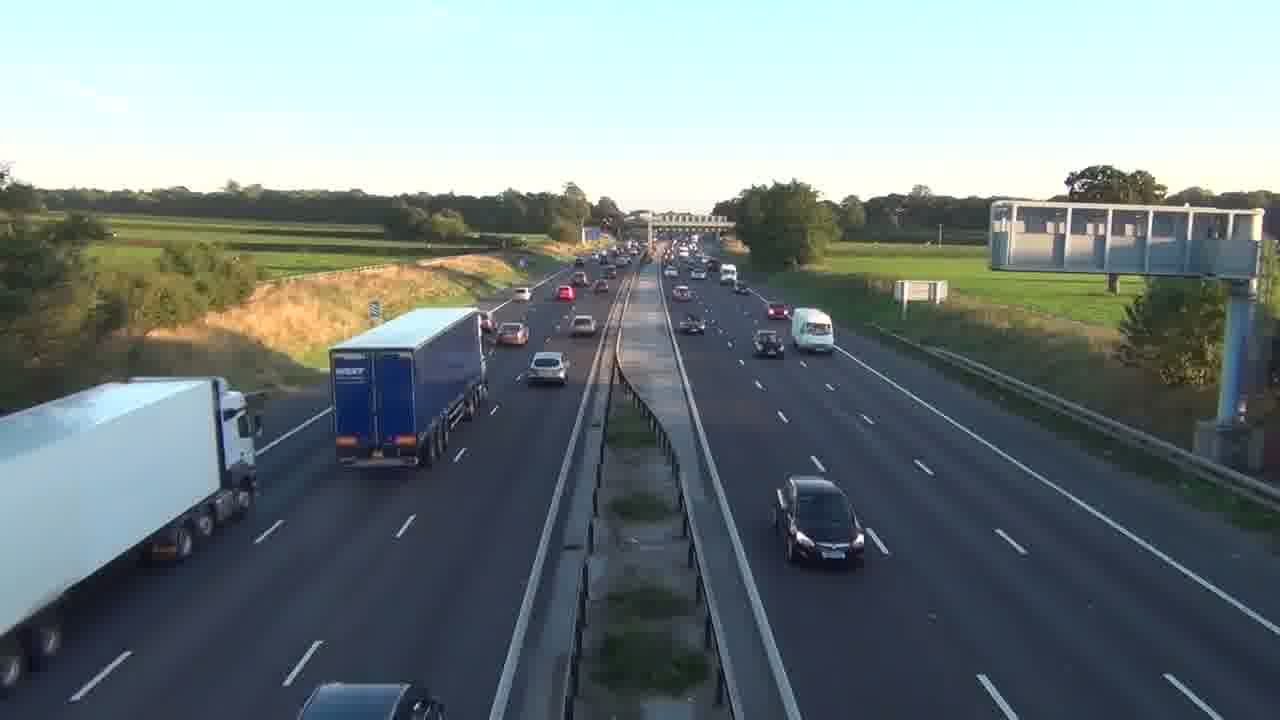car: (773, 474, 866, 569), (526, 351, 569, 386), (570, 315, 597, 337), (672, 284, 691, 302)
truck: (1, 375, 260, 693), (330, 305, 484, 468)
